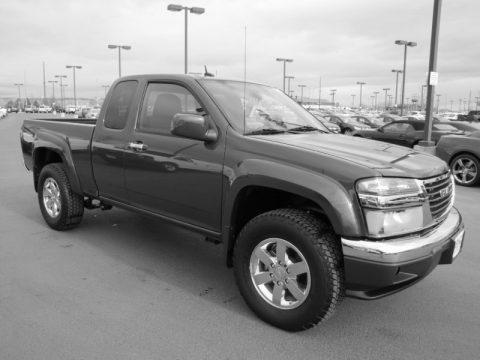car: (19, 70, 470, 336)
